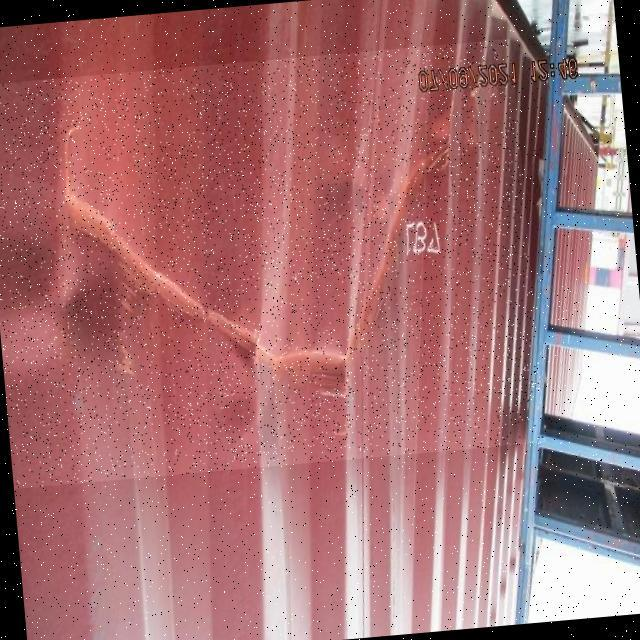dent: (1, 39, 546, 489)
